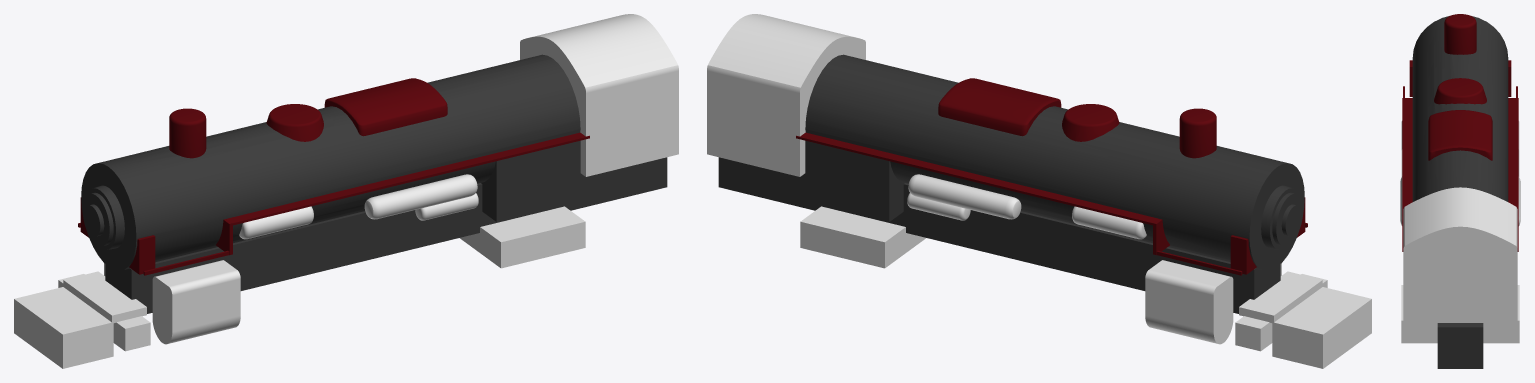
The model's file is TRAIN.glb.
The picture shows the model from 3 angles, left to right: view 1: azimuth 30°, elevation 25°; view 2: azimuth 150°, elevation 25°; view 3: azimuth 270°, elevation 25°; orthographic projection. The views are drawn at different scales.
Parts seen in each view (by area): view 1: Locomotive; view 2: Locomotive; view 3: Locomotive.
Boxes of the visible parts, x1,y1,x2,y2 form: Locomotive: (14, 14, 678, 368); Locomotive: (707, 14, 1371, 368); Locomotive: (1400, 14, 1520, 368).
Bounding box in the file's own units: 14.56 × 4.51 × 2.85.
